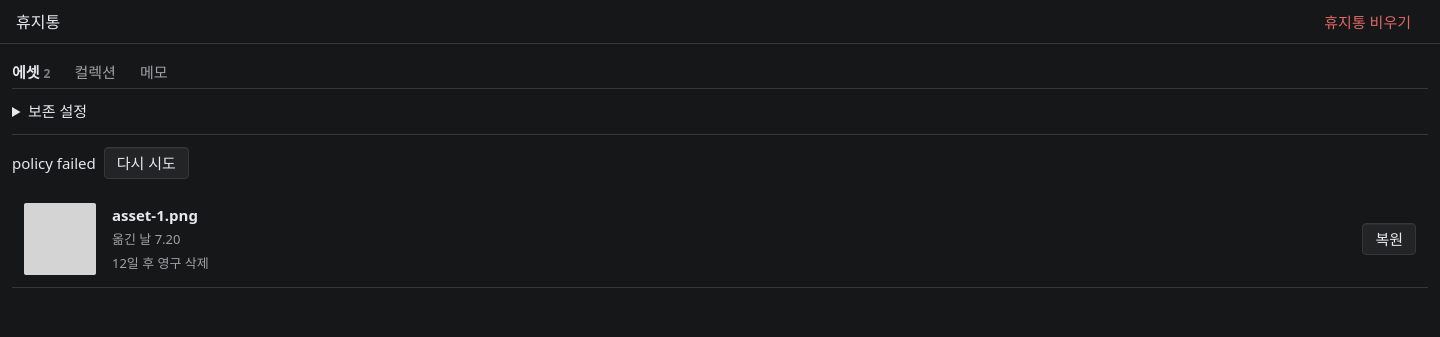
Scenario: keeps a loaded trash page visible when the policy request fails and retries both
Click the heading "보존 설정": x=57, y=111 [28,101,87,121]
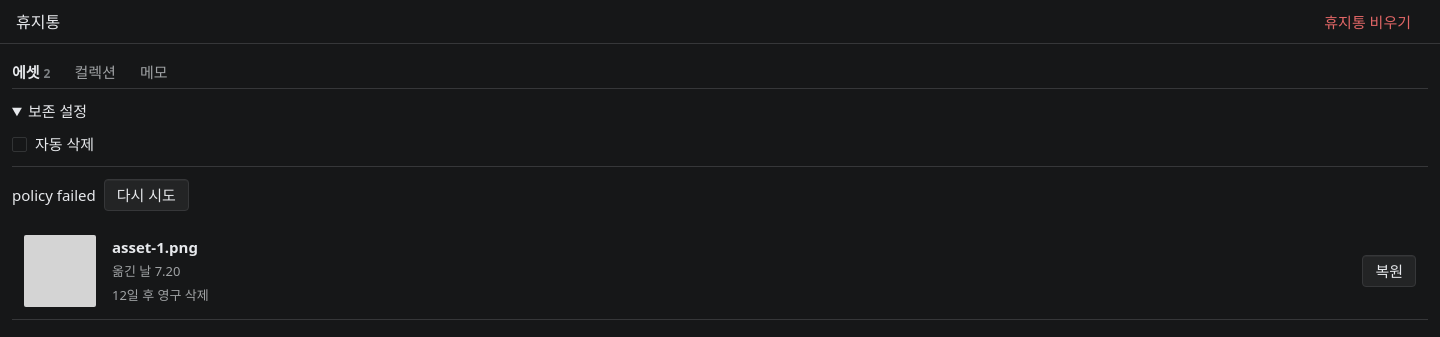
Expected: the text "asset-1.png" is shown, [112,237,198,257]
Result: the checkbox labelled "자동 삭제" is disabled at [12,136,27,152]
Click the button "다시 시도": x=146, y=195 [104,179,189,211]
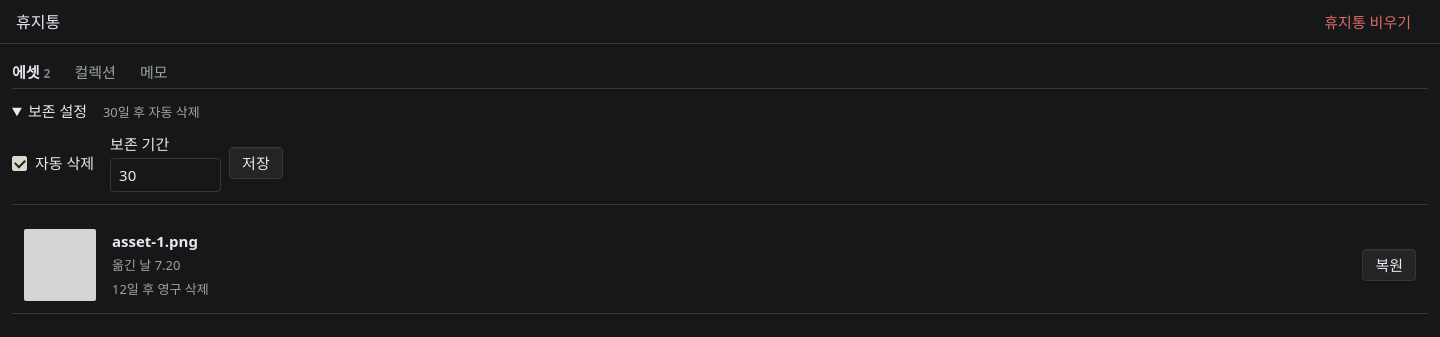
Result: the checkbox labelled "자동 삭제" is enabled at [12,156,27,170]
